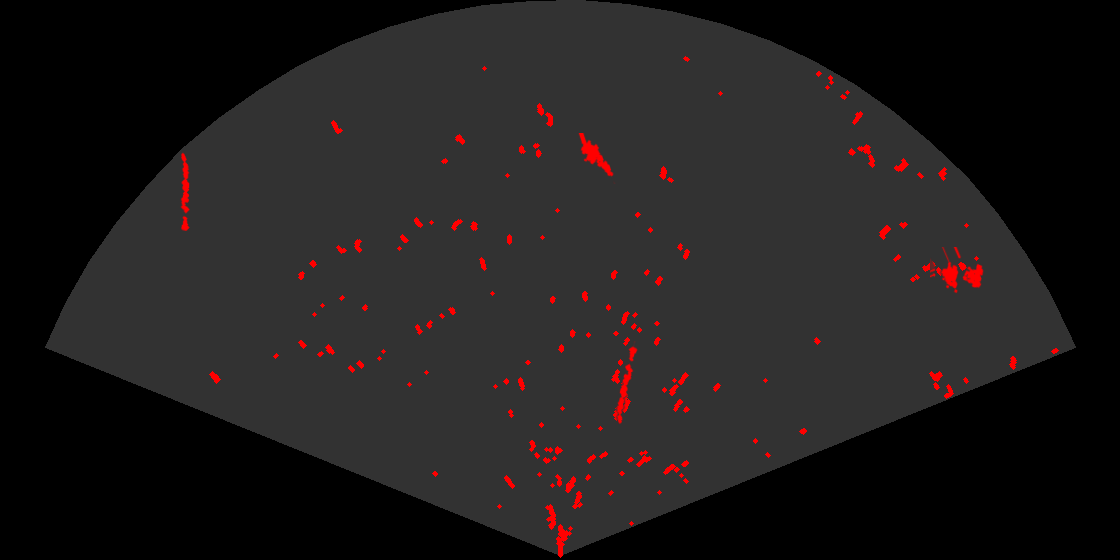cage: (930, 247, 985, 295)
chain: (615, 341, 639, 425), (179, 151, 191, 231)
frogman: (577, 133, 616, 184)
